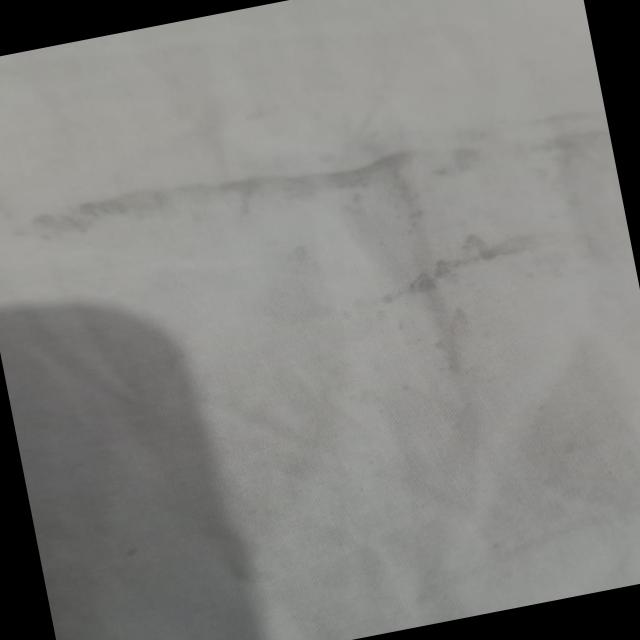stain: (14, 102, 514, 267), (358, 212, 555, 356)
